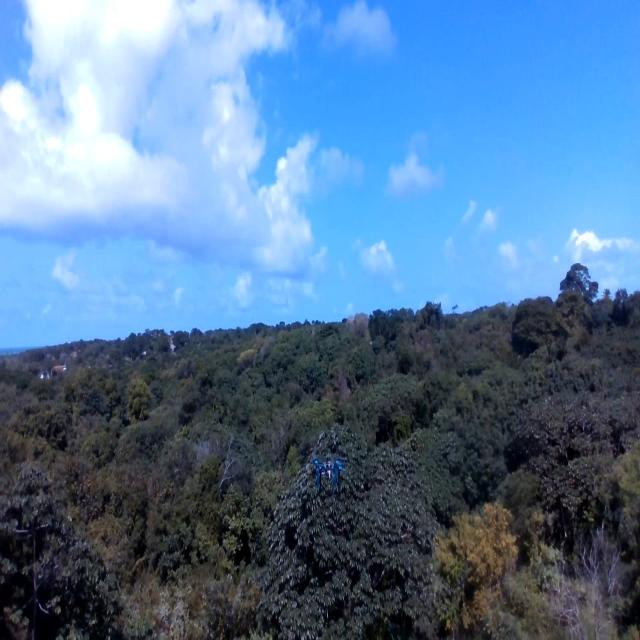-uav-: (303, 447, 350, 501)
